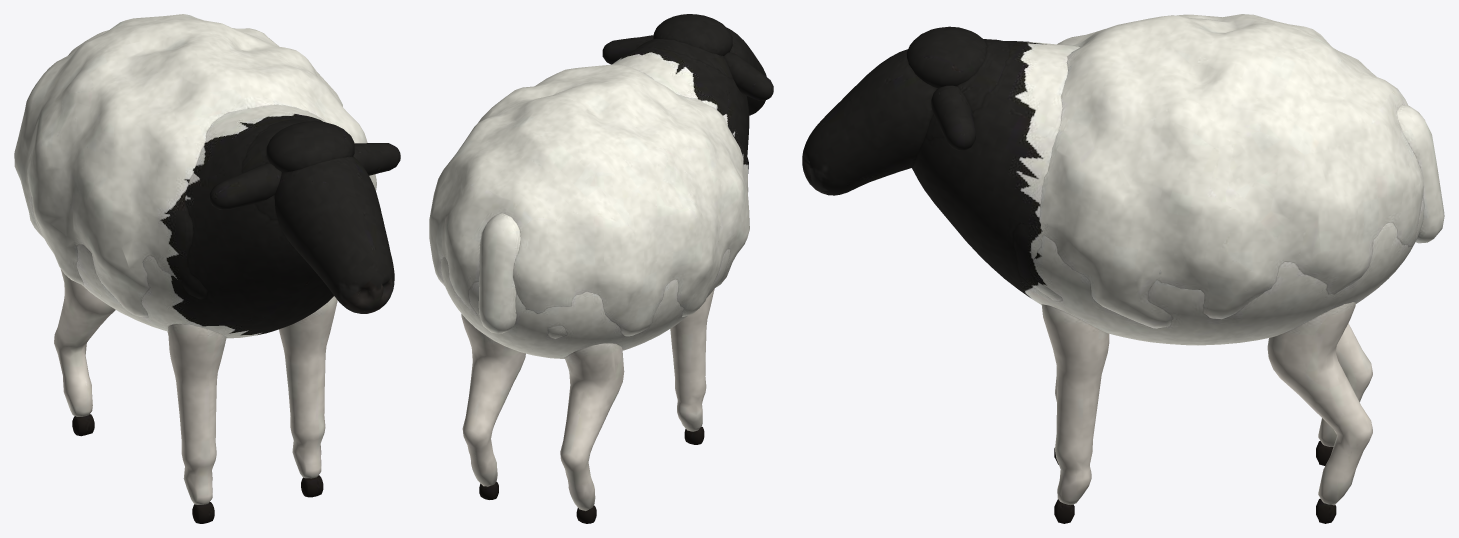
File: animal_dorper.glb
3 renders of one model, left to right at view 1: azimuth 30°, elevation 25°; view 2: azimuth 150°, elevation 25°; view 3: azimuth 270°, elevation 25°, orthographic. The views are drawn at different scales.
Visible parts, largest first — view 1: animal_dorper, head, leg0, leg1, leg2; view 2: animal_dorper, leg2, leg3, head, tail, leg0; view 3: animal_dorper, head, leg3, leg1, tail, leg2.
Boxes of the visible parts, bbox=[...] form: animal_dorper: bbox=[14, 14, 376, 338]; head: bbox=[209, 121, 400, 313]; leg0: bbox=[168, 324, 226, 523]; leg1: bbox=[279, 296, 337, 497]; leg2: bbox=[54, 269, 115, 436]; animal_dorper: bbox=[429, 38, 749, 358]; leg2: bbox=[560, 343, 624, 523]; leg3: bbox=[461, 314, 525, 499]; head: bbox=[602, 14, 773, 115]; tail: bbox=[478, 213, 520, 333]; leg0: bbox=[670, 289, 714, 444]; animal_dorper: bbox=[912, 14, 1423, 345]; head: bbox=[802, 26, 986, 195]; leg3: bbox=[1267, 302, 1372, 523]; leg1: bbox=[1041, 304, 1109, 523]; tail: bbox=[1396, 105, 1444, 243]; leg2: bbox=[1316, 323, 1372, 465].
Size of the model in its own units: 0.2944 by 0.4136 by 0.5169.
Materials: 1 (1 with a texture image).
